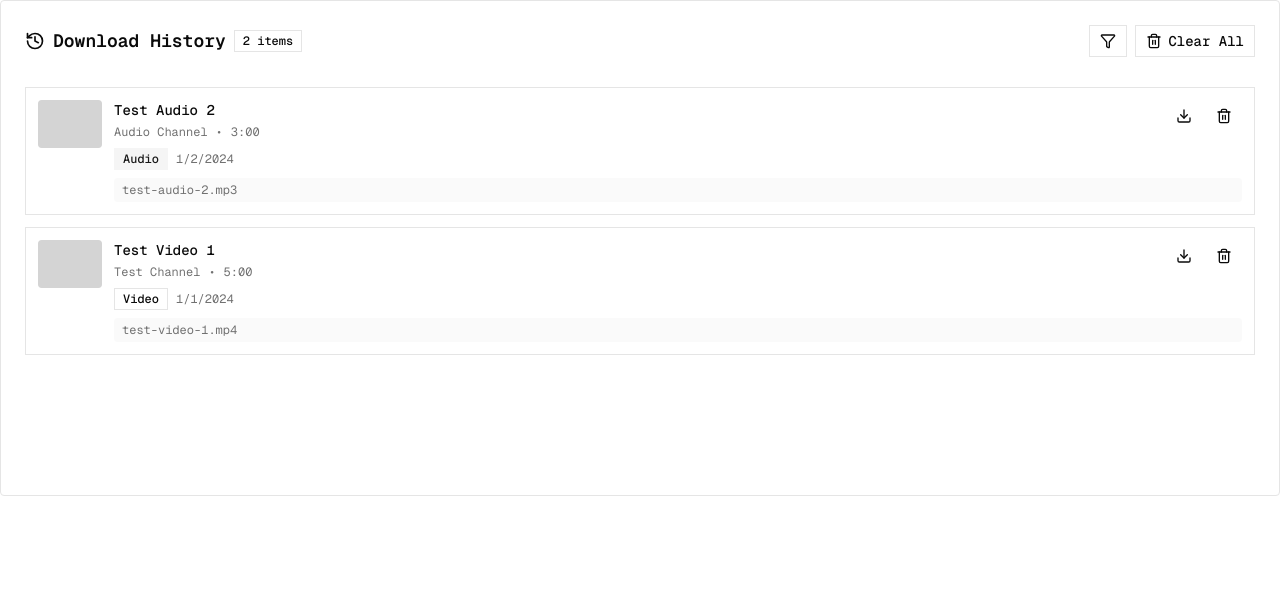
Test: DownloadHistory › filters history by format
// Show filters
Click the button named "Toggle filters": (1108, 41) 1089,25 -> 1127,57
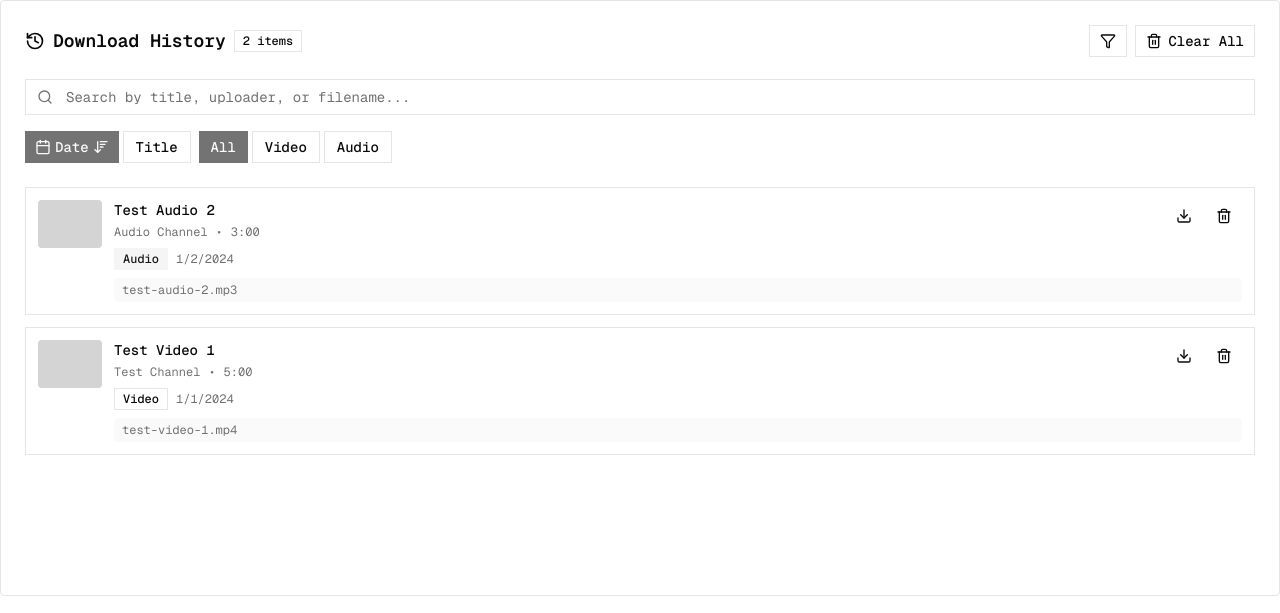
// Filter by audio only
Click the button "Audio": (358, 147) 324,131 -> 392,163
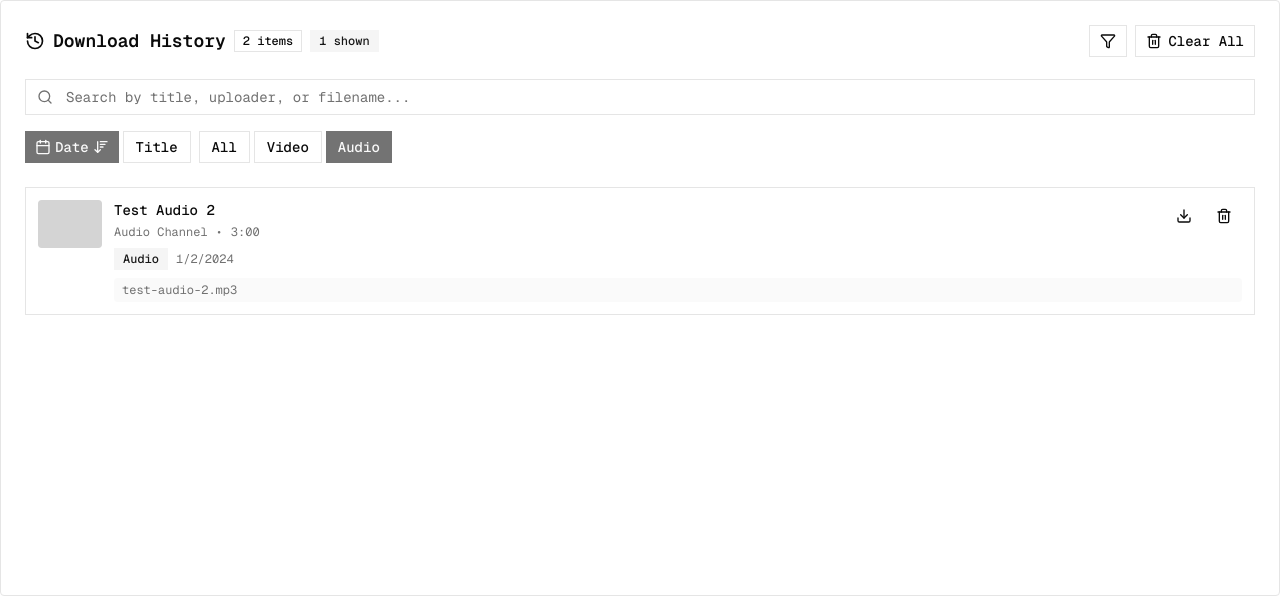
expect the heading "Test Audio 2" is shown: met, box 114,201 -> 215,219
expect the heading "Test Video 1" is gone: met
expect the text "1 shown" is shown: met, box 310,30 -> 379,52
